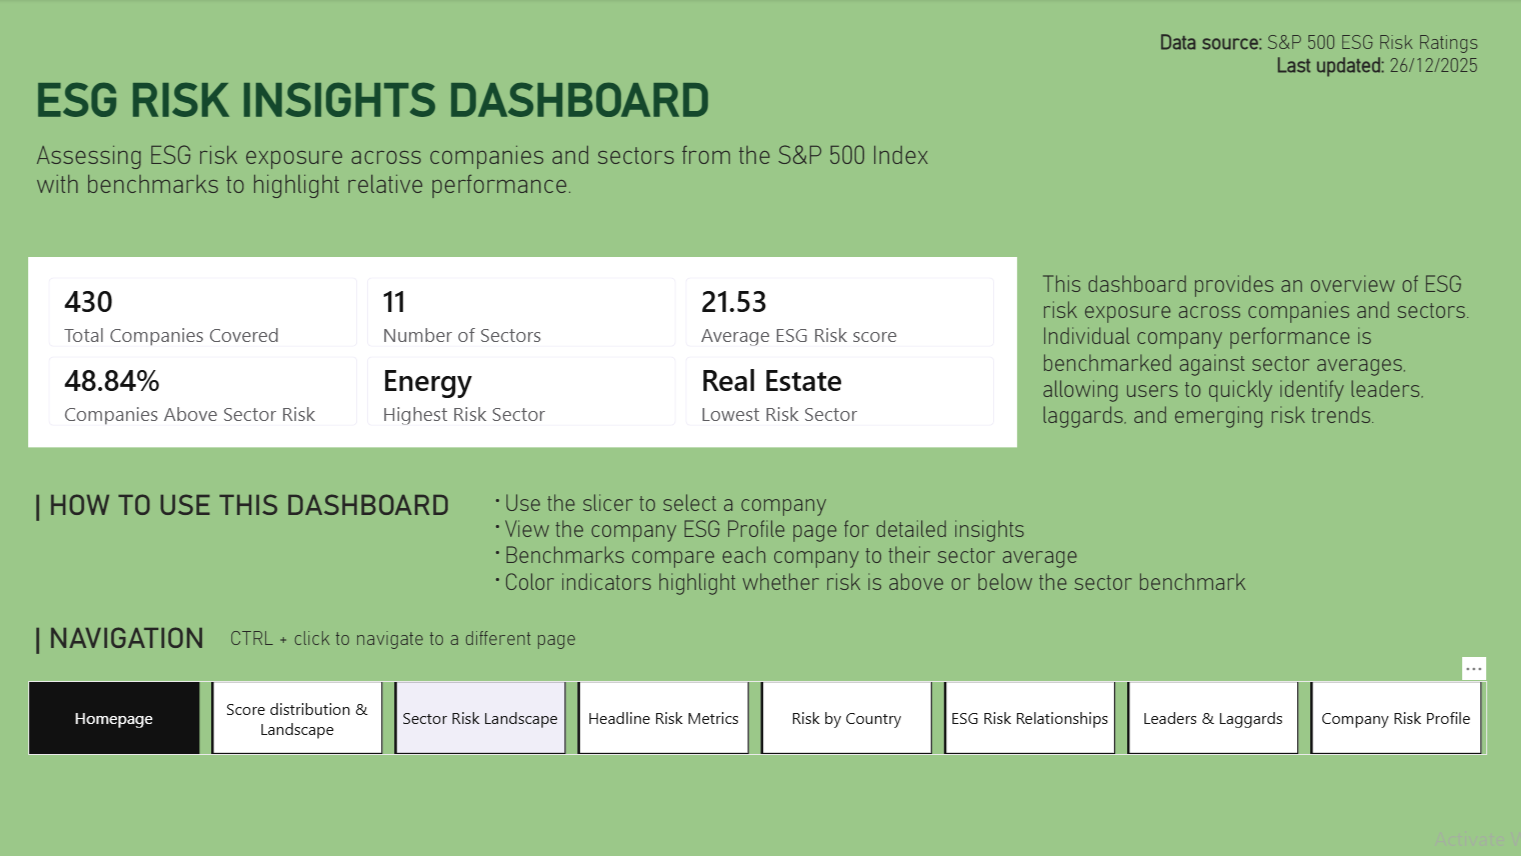

The page's visual inventory and layout, read from the dashboard file:
{"tool":"powerbi","page":{"name":"Homepage","canvas":[1280,720],"ordinal":0},"visuals":[{"type":"textbox","box":[26.3,56.6,828.6,57.1],"z":0},{"type":"textbox","box":[27.1,112.9,765.7,61.4],"z":1000},{"type":"textbox","box":[905.1,20.5,335.9,56.4],"z":2000},{"type":"cardVisual","fields":{"Data":["CountNonNull(SP 500 ESG Risk Ratings.Name)","Count(SP 500 ESG Risk Ratings.Sector)","Avg(SP 500 ESG Risk Ratings.Total ESG Risk score)","SP 500 ESG Risk Ratings.% Above Sector Risk","SP 500 ESG Risk Ratings.Highest Risk Sector","SP 500 ESG Risk Ratings.Lowest Risk Sector"]},"box":[25.4,215.4,825.6,159],"z":3000},{"type":"textbox","box":[867.1,221.4,377.1,144.3],"z":4000},{"type":"textbox","box":[25.4,403.9,374.4,39.7],"z":5000},{"type":"textbox","box":[400,404.3,842.9,98.6],"z":6000},{"type":"textbox","box":[25.4,515.4,374.4,39.7],"z":7000},{"type":"pageNavigator","box":[25.1,570,1218.6,61.4],"z":8000},{"type":"textbox","box":[188.6,518.6,377.1,34.3],"z":9000}]}

Visuals, with their boxes in screenshot pixels (x1, y1, x2, y2), scaled from the page's 1280x720 canvas onto the 1521x856 screenshot:
textbox: BBox(31, 67, 1016, 135)
textbox: BBox(32, 134, 942, 207)
textbox: BBox(1076, 24, 1475, 91)
cardVisual - CountNonNull(SP 500 ESG Risk Ratings.Name) x Count(SP 500 ESG Risk Ratings.Sector): BBox(30, 256, 1011, 445)
textbox: BBox(1030, 263, 1478, 435)
textbox: BBox(30, 480, 475, 527)
textbox: BBox(475, 481, 1477, 598)
textbox: BBox(30, 613, 475, 660)
pageNavigator: BBox(30, 678, 1478, 751)
textbox: BBox(224, 617, 672, 657)
